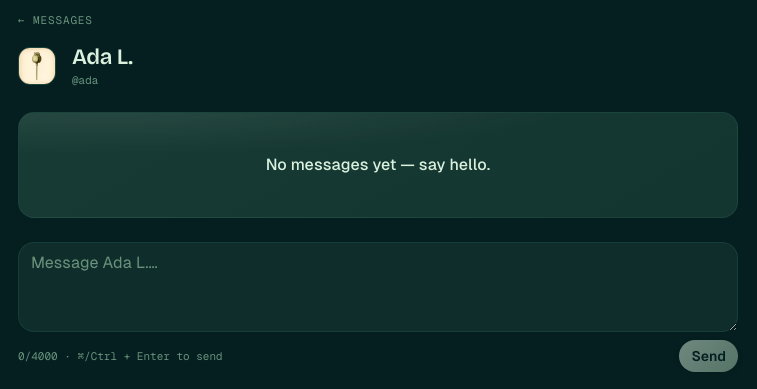
it: ConversationPage (todo 339) › Send is disabled while the draft is blank, posts the trimmed body, appends the reply and clears
Expected: the button "Send" is disabled, [679, 340, 738, 372]
Expected: the text "0/4000 · ⌘/Ctrl + Enter to send" is shown, [18, 349, 223, 364]
Type "  hi there  " into the text box with placeholder "Message Ada L.…". click: {"x": 378, "y": 287}
box: [18, 242, 738, 332]
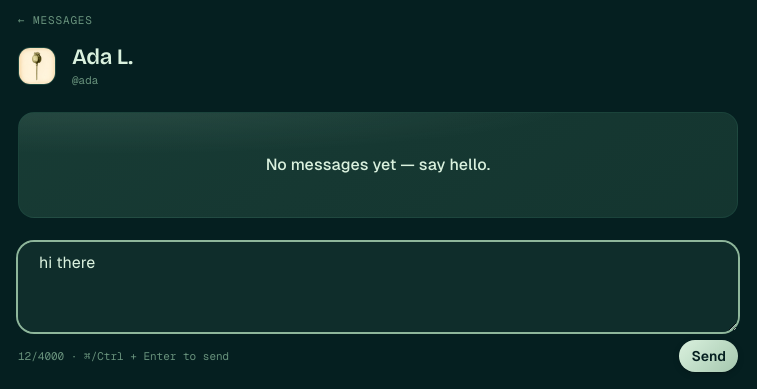
Now the button "Send" is enabled
Click the button "Send". click: {"x": 709, "y": 356}
box: [679, 340, 738, 372]
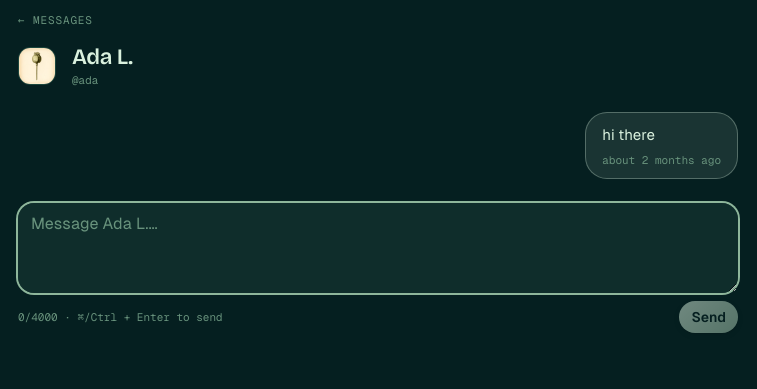
Now the number of list items is 1, box [585, 112, 738, 179]
Now the list item shows "hi there", box [602, 126, 655, 143]
Now the text box with placeholder "Message Ada L.…" is empty, box [18, 203, 738, 293]
